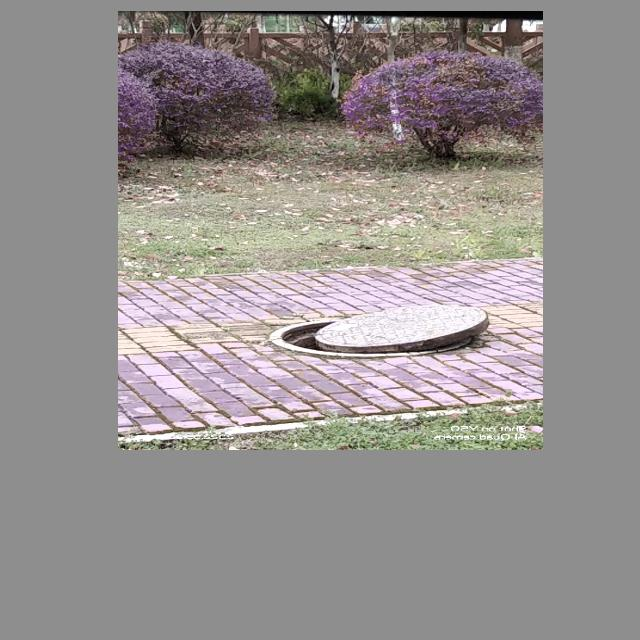uncovered: (258, 287, 503, 356)
